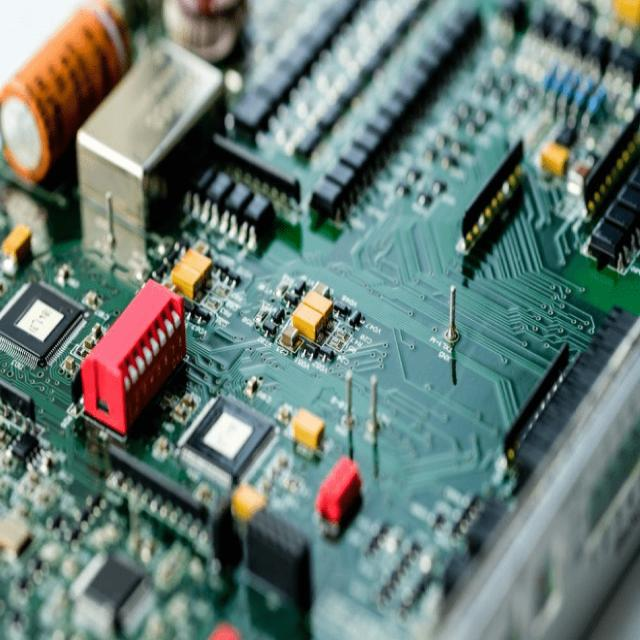pcb: (1, 1, 638, 637), (221, 0, 482, 222), (74, 35, 224, 272), (78, 276, 186, 438), (0, 278, 85, 370), (587, 161, 639, 273), (291, 289, 333, 342)
